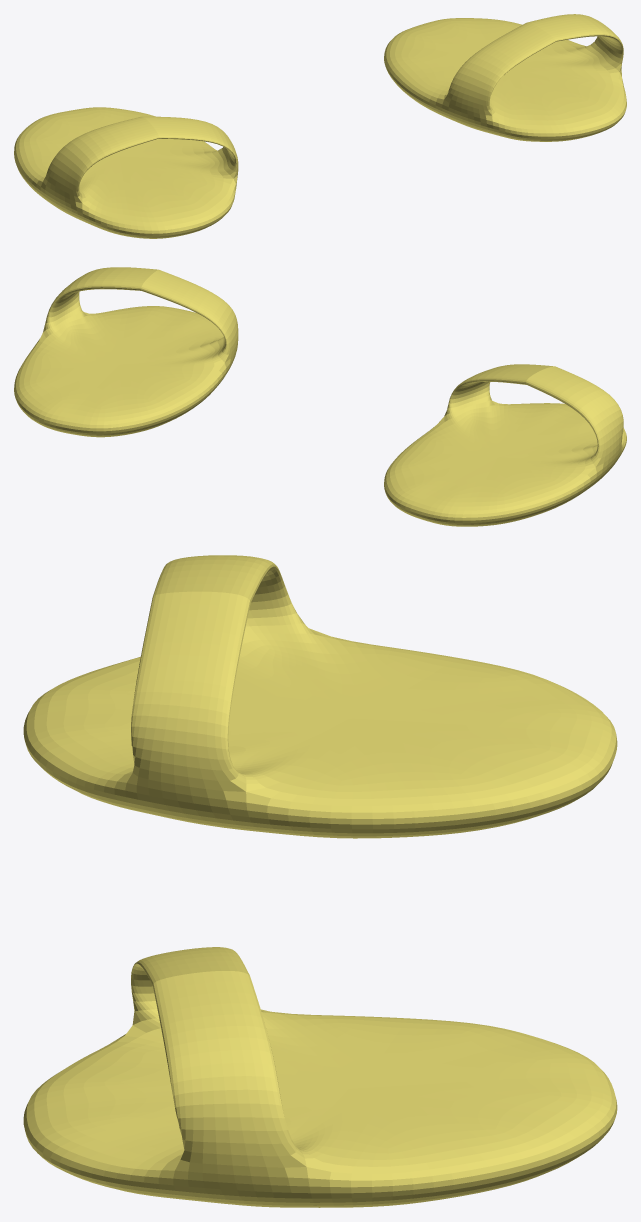
Rendered from Shoes2.fbx.
The picture shows the model from 3 angles, top to bottom: view 1: azimuth 30°, elevation 25°; view 2: azimuth 150°, elevation 25°; view 3: azimuth 270°, elevation 25°; orthographic projection. The views are drawn at different scales.
Visible parts, largest first — view 1: Cylinder.080, Cylinder.079; view 2: Cylinder.080, Cylinder.079; view 3: Cylinder.079, Cylinder.080.
Boxes of the visible parts, x1,y1,x2,y2 form: Cylinder.080: (384,14,626,141); Cylinder.079: (14,107,238,238); Cylinder.080: (14,267,238,437); Cylinder.079: (384,364,626,526); Cylinder.079: (23,555,617,838); Cylinder.080: (23,947,617,1207).
Bounding box in the file's own units: 139 × 63.92 × 22.62.
